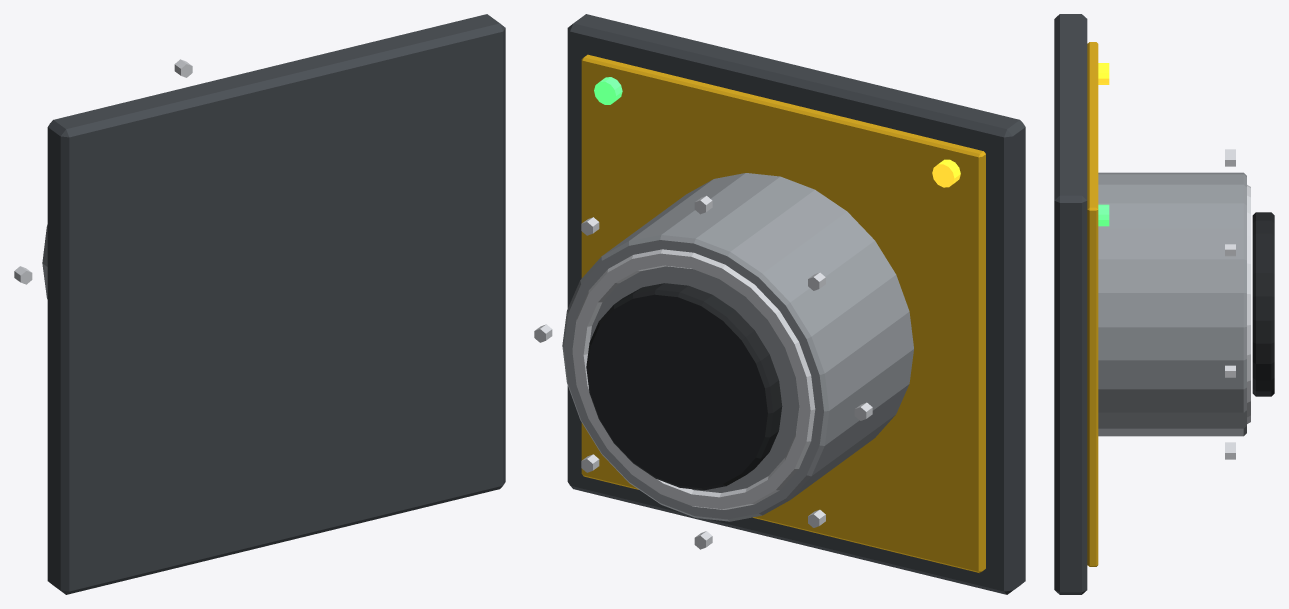
File: refuel_port.glb
3 views of the same model, side by side, from view 1: azimuth 30°, elevation 25°; view 2: azimuth 150°, elevation 25°; view 3: azimuth 270°, elevation 25° (orthographic). The views are drawn at different scales.
Visible parts, largest first — view 1: refuel_port; view 2: refuel_port; view 3: refuel_port.
Part boxes in pixels (x1=…): refuel_port: x1=14, y1=14, x2=505, y2=594; refuel_port: x1=534, y1=14, x2=1025, y2=594; refuel_port: x1=1054, y1=14, x2=1274, y2=594.
Bounding box in the file's own units: 0.8 × 0.8 × 0.4.
